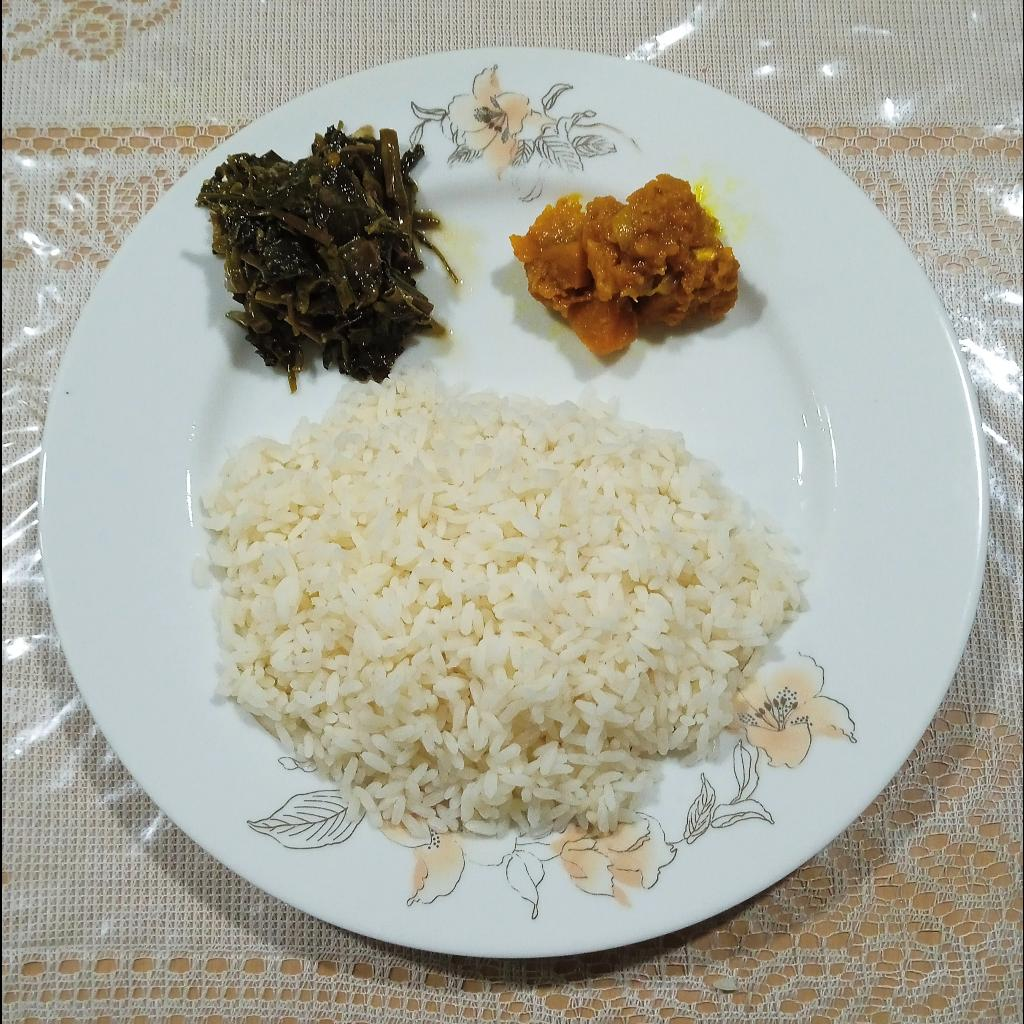kumra-vaji: (504, 171, 741, 360)
rice: (191, 359, 814, 840)
shak: (190, 115, 461, 398)
